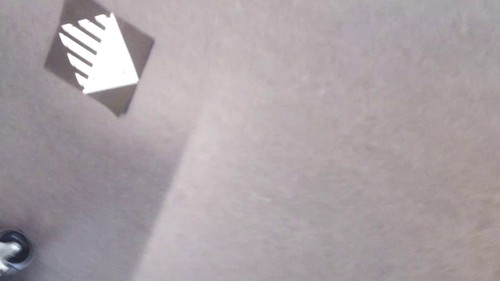misgoods: (47, 3, 144, 102)
